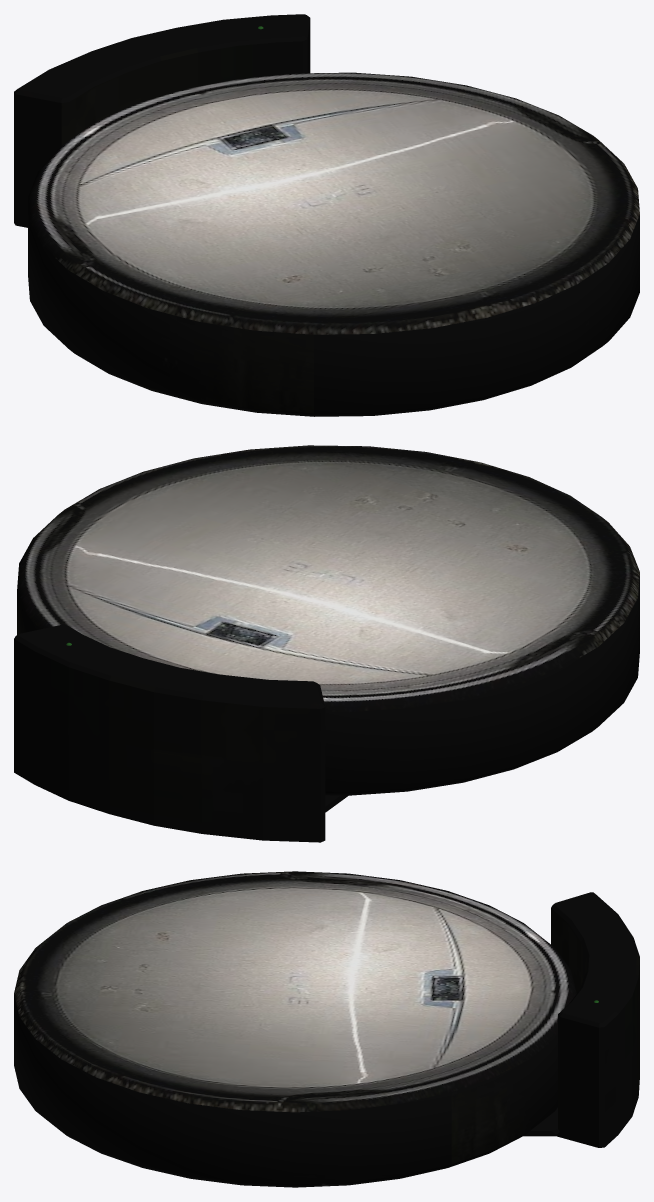
File: vacuum.fbx
3 renders of one model, top to bottom at view 1: azimuth 30°, elevation 25°; view 2: azimuth 150°, elevation 25°; view 3: azimuth 270°, elevation 25°, orthographic. The views are drawn at different scales.
Visible parts, largest first — view 1: vacuum cleaner; view 2: vacuum cleaner; view 3: vacuum cleaner.
Part boxes in pixels (left/top/right/bottom): vacuum cleaner: left=14, top=14, right=639, bottom=416; vacuum cleaner: left=14, top=445, right=639, bottom=842; vacuum cleaner: left=14, top=871, right=639, bottom=1187.
Size of the model in its own units: 30.48 by 7.58 by 33.91.
2 materials, 1 textured.
